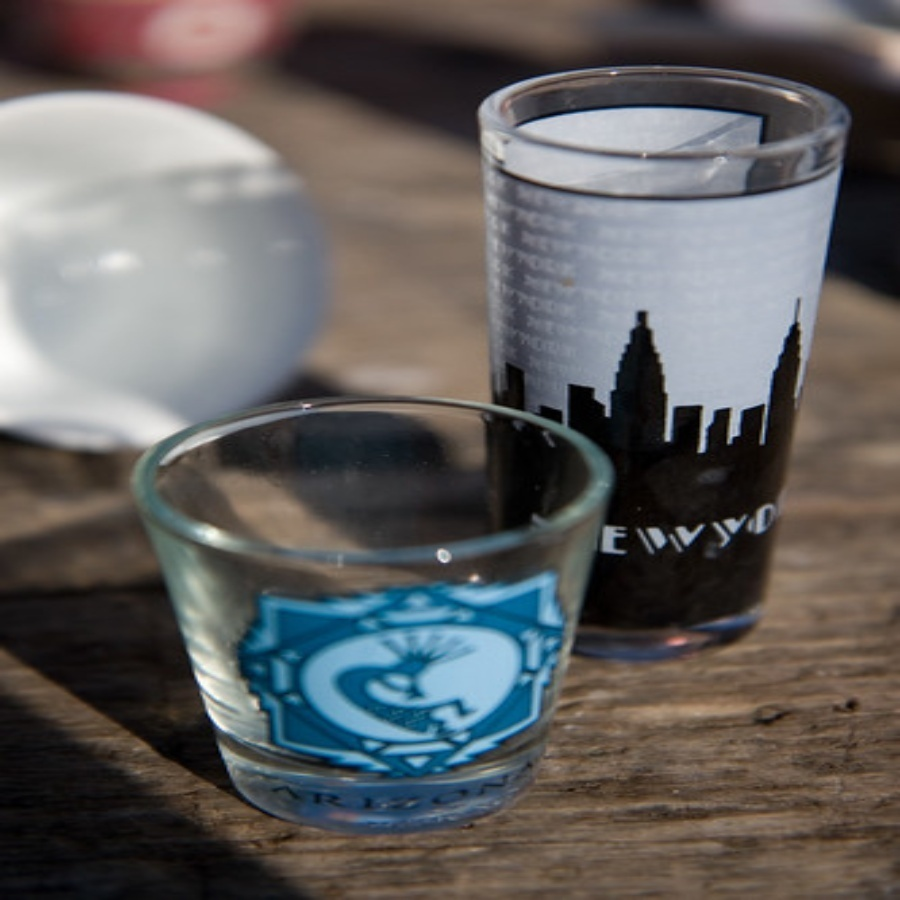whiskey: (445, 87, 857, 648), (185, 381, 605, 815)
